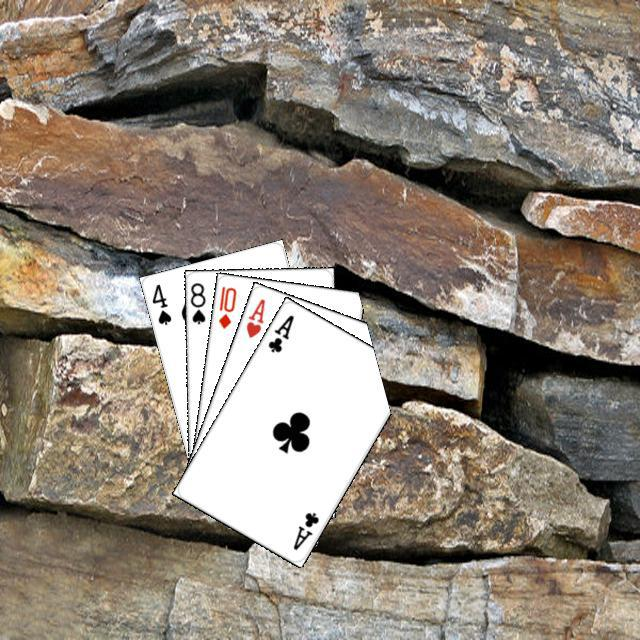10d: (213, 281, 238, 330)
4s: (147, 279, 173, 327)
8s: (186, 278, 207, 326)
Ac: (288, 507, 321, 552), (263, 310, 296, 354)
Ah: (241, 294, 267, 340)
